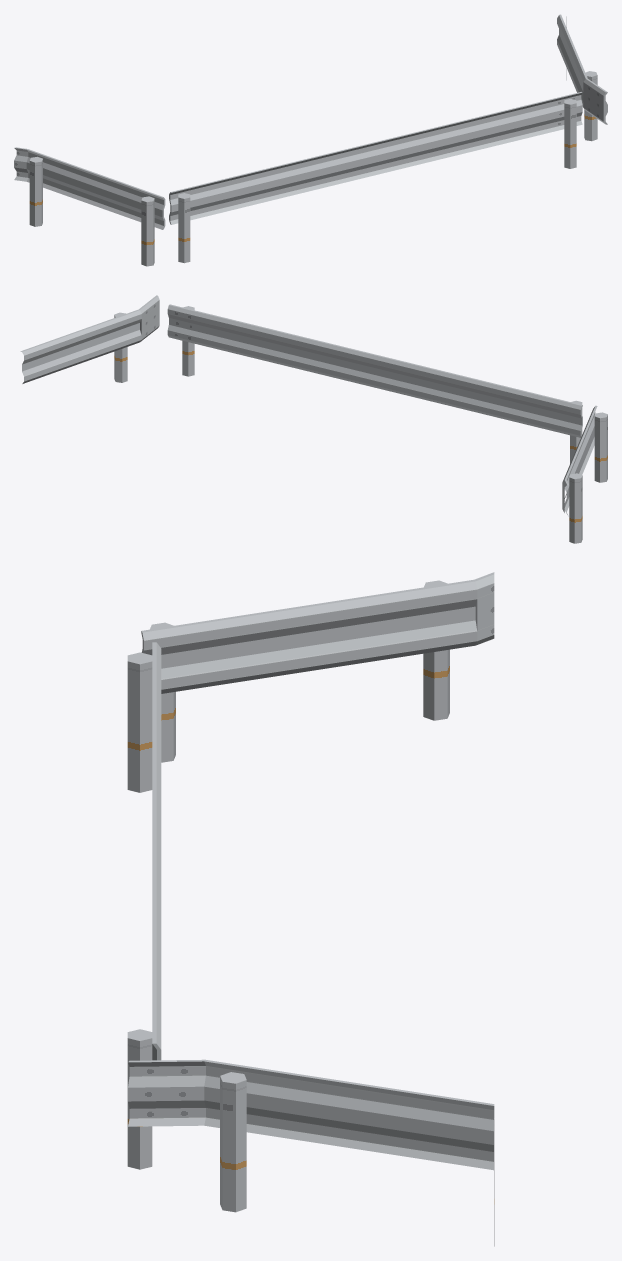
The model's file is kd_stage_135ded_2_11_bounded.glb.
3 views of the same model, one above another, from view 1: azimuth 30°, elevation 25°; view 2: azimuth 150°, elevation 25°; view 3: azimuth 270°, elevation 25° (orthographic). The views are drawn at different scales.
Visible parts, largest first — view 1: kd_stage_135ded_2_11_bounded; view 2: kd_stage_135ded_2_11_bounded; view 3: kd_stage_135ded_2_11_bounded.
Part boxes in pixels (left/top/right/bottom): kd_stage_135ded_2_11_bounded: left=14, top=14, right=607, bottom=266; kd_stage_135ded_2_11_bounded: left=20, top=295, right=607, bottom=543; kd_stage_135ded_2_11_bounded: left=127, top=572, right=494, bottom=1246.
Bounding box in the file's own units: 9 × 1.05 × 2.58.
Materials: 1 (1 with a texture image).
